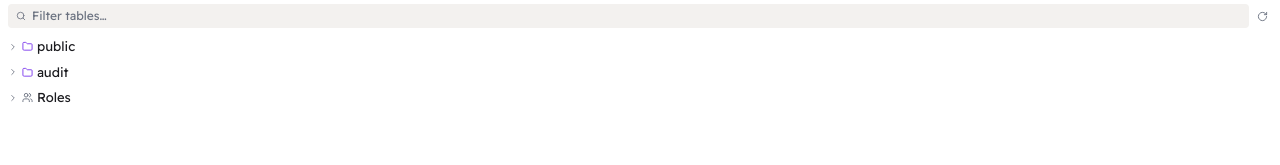
Test: lazy expansion › shows a skeleton while a schema's objects load, then its groups
This screenshot has width=1280, height=165.
Expected: the text "public" is shown, [37, 38, 75, 54]
Click the button named "Expand" next to "public": (13, 47) [8, 42, 18, 52]
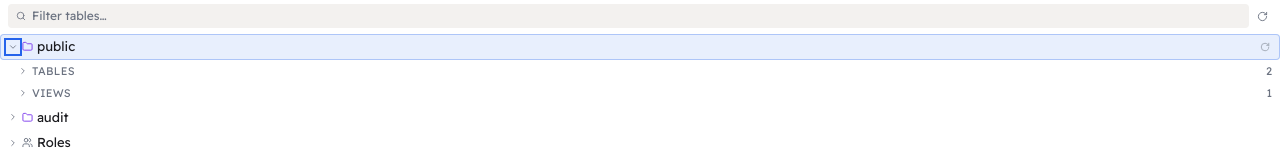
Now the text "Tables" is shown, box [32, 64, 75, 78]
Now the list item "Tables 2" is shown, box [0, 60, 1279, 82]
Now the list item "Views 1" is shown, box [0, 82, 1279, 104]
